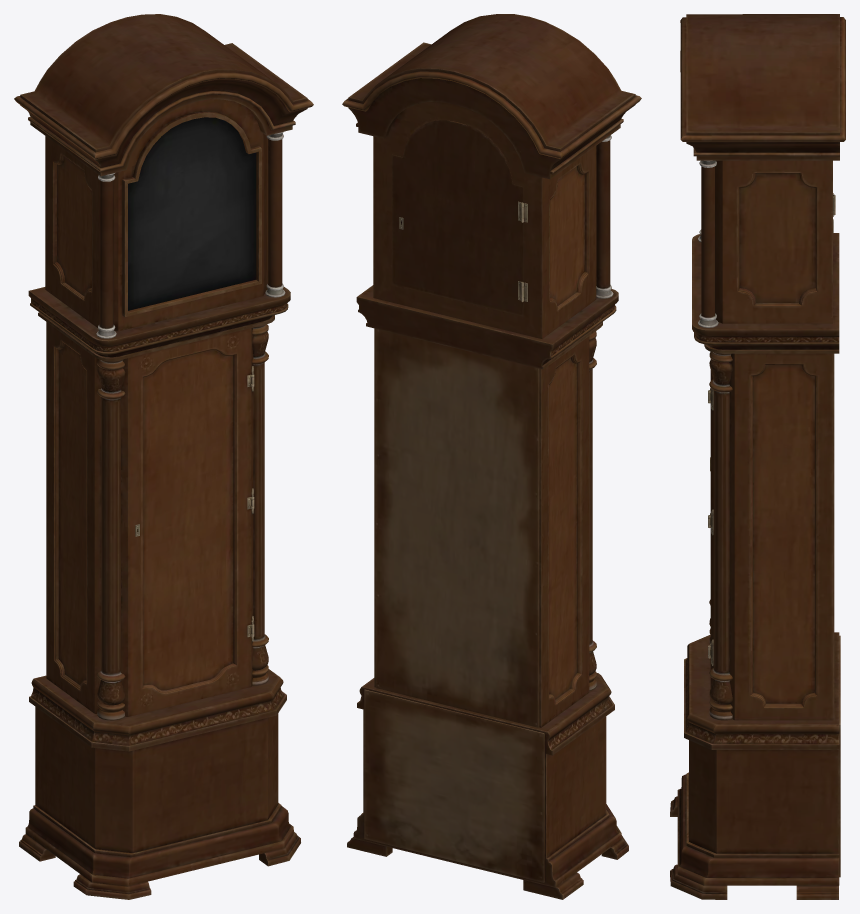
The model's file is vintage_grandfather_clock_01.glb.
3 views of the same model, side by side, from view 1: azimuth 30°, elevation 25°; view 2: azimuth 150°, elevation 25°; view 3: azimuth 270°, elevation 25° (orthographic). The views are drawn at different scales.
Parts seen in each view (by area): view 1: vintage_grandfather_clock_01_Body; view 2: vintage_grandfather_clock_01_Body; view 3: vintage_grandfather_clock_01_Body.
Part boxes in pixels (x1,y1,x2,y2): vintage_grandfather_clock_01_Body: [14, 14, 313, 899]; vintage_grandfather_clock_01_Body: [342, 14, 641, 899]; vintage_grandfather_clock_01_Body: [670, 14, 845, 899].
Bounding box in the file's own units: 0.6255 × 2.19 × 0.4265.
Materials: 2 (2 with a texture image).
